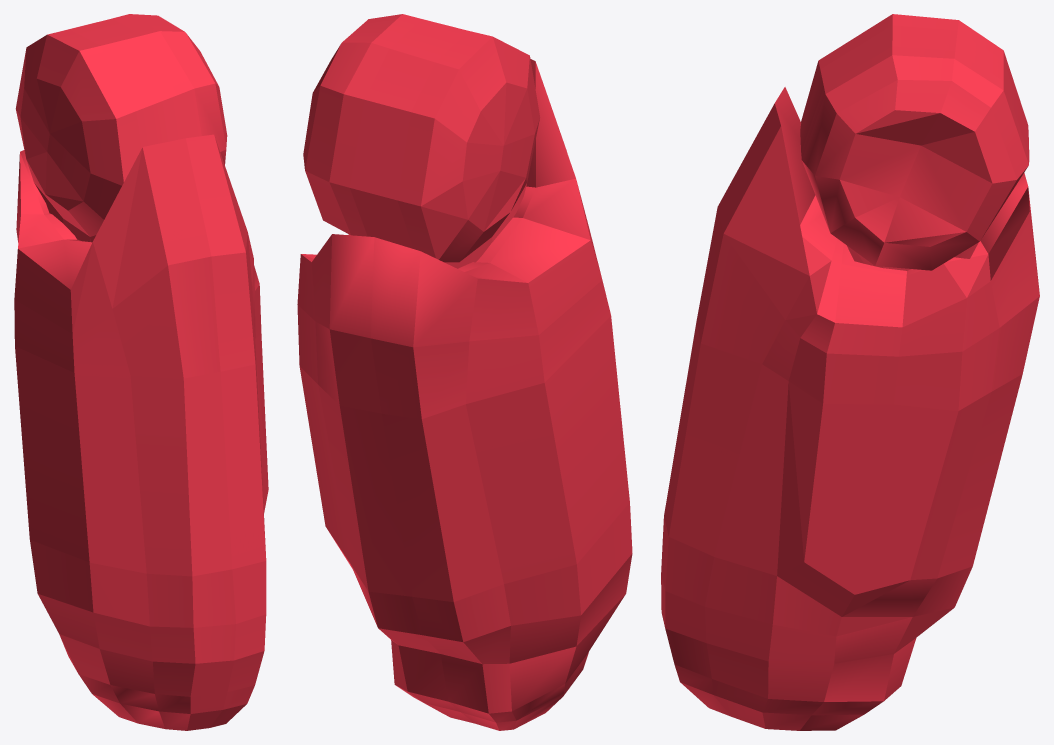
Rendered from left_thigh.fbx.
The picture shows the model from 3 angles, left to right: view 1: azimuth 30°, elevation 25°; view 2: azimuth 150°, elevation 25°; view 3: azimuth 270°, elevation 25°; orthographic projection. The views are drawn at different scales.
Parts seen in each view (by area): view 1: left_thigh; view 2: left_thigh; view 3: left_thigh.
Boxes of the visible parts, x1=… form: left_thigh: x1=14, y1=14, x2=268, y2=730; left_thigh: x1=297, y1=14, x2=632, y2=730; left_thigh: x1=661, y1=14, x2=1039, y2=730.
Size of the model in its own units: 0.1844 by 0.5331 by 0.2693.
